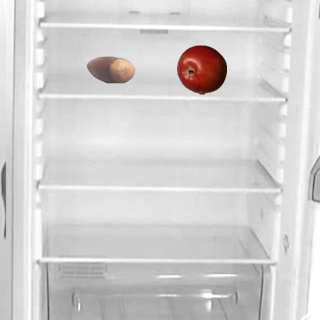Apple Braeburn: (176, 44, 226, 94)
Hazelnut: (85, 44, 135, 94)
